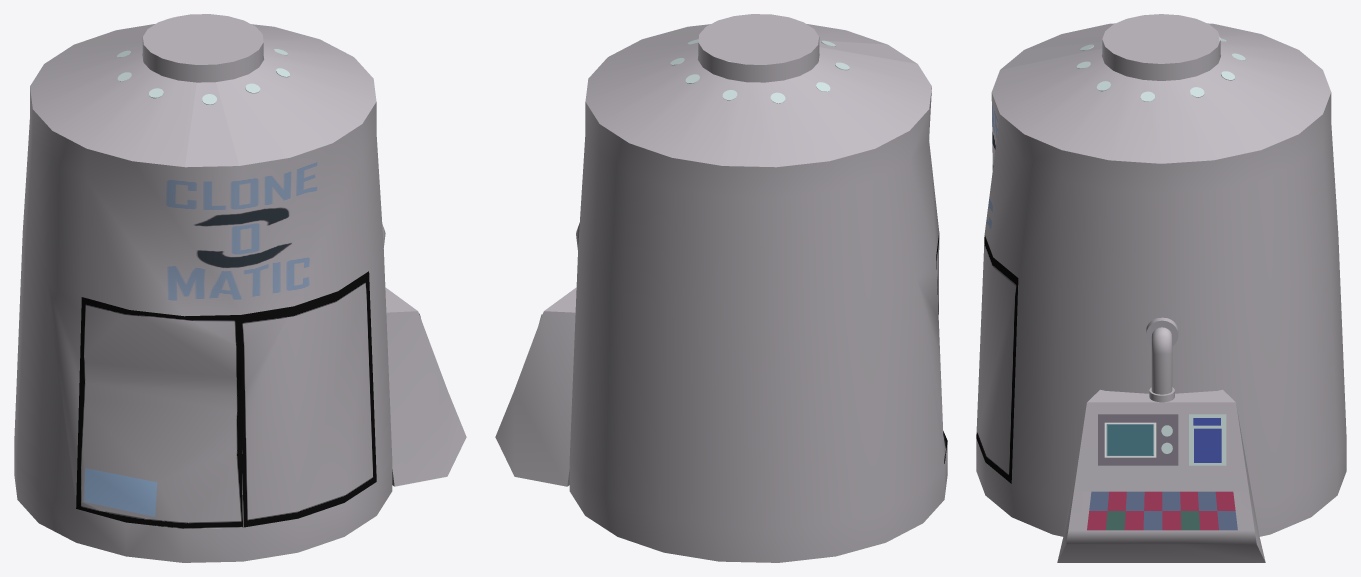
File: Maquina4.obj
3 renders of one model, left to right at view 1: azimuth 30°, elevation 25°; view 2: azimuth 150°, elevation 25°; view 3: azimuth 270°, elevation 25°, orthographic. The views are drawn at different scales.
Visible parts, largest first — view 1: pCylinder6; view 2: pCylinder6; view 3: pCylinder6.
Part boxes in pixels (left/top/right/bottom): pCylinder6: left=14, top=14, right=466, bottom=562; pCylinder6: left=495, top=14, right=947, bottom=562; pCylinder6: left=976, top=14, right=1346, bottom=562.
Bounding box in the file's own units: 2.51 × 2.82 × 2.18.
21 materials, 20 textured.
